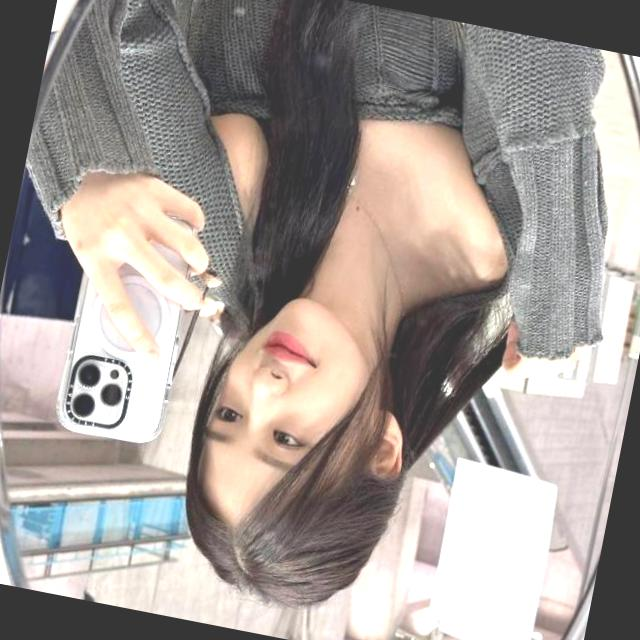lens_back: (95, 379, 126, 410), (68, 390, 98, 420), (75, 361, 104, 389)
phone: (46, 197, 205, 452)
